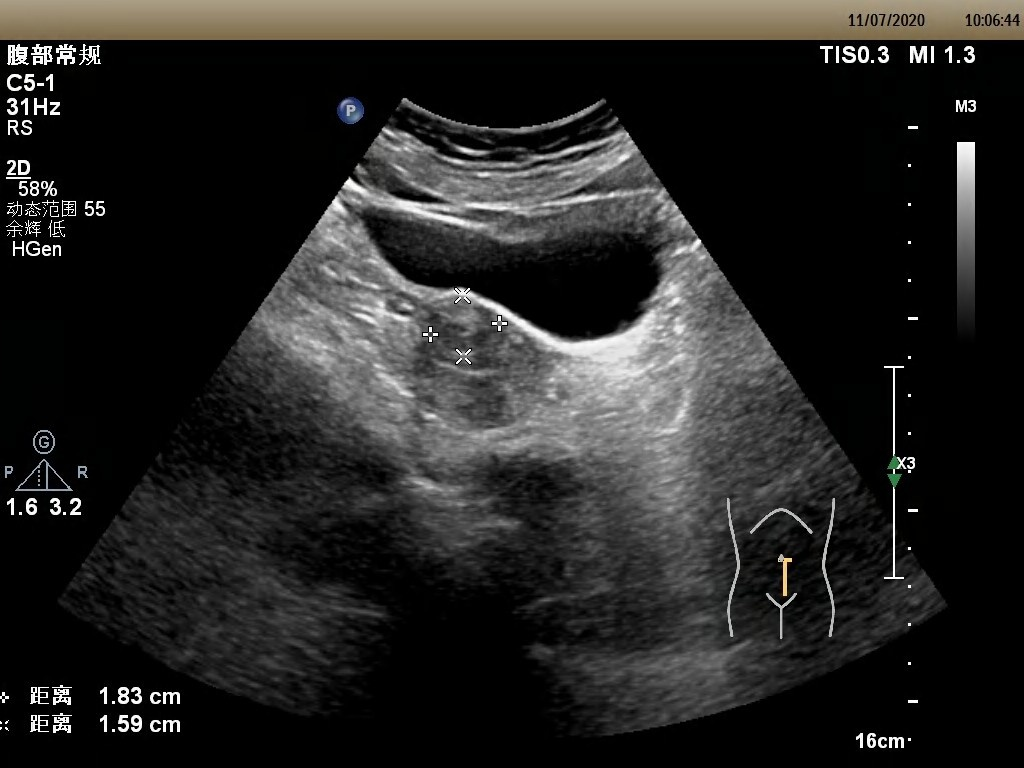肌瘤: (433, 304, 490, 349)
